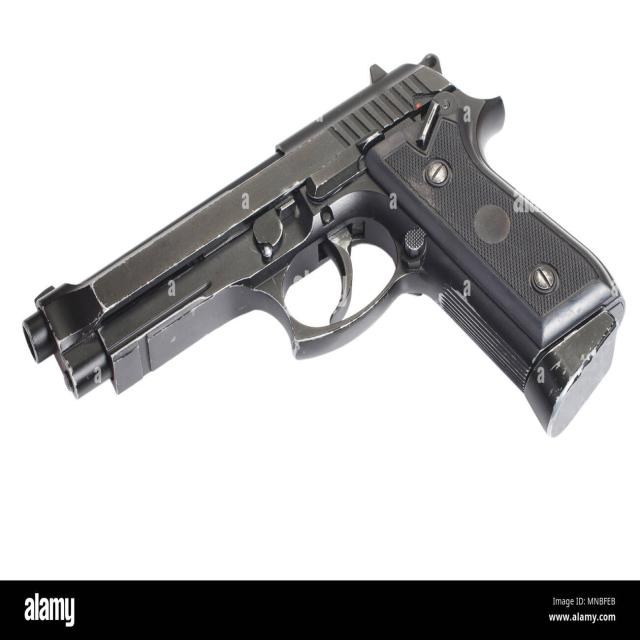Gun: (20, 39, 630, 457)
